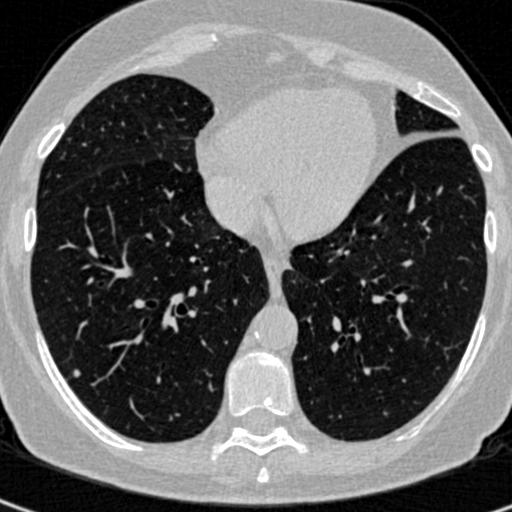nodule: (71, 368, 83, 380)
